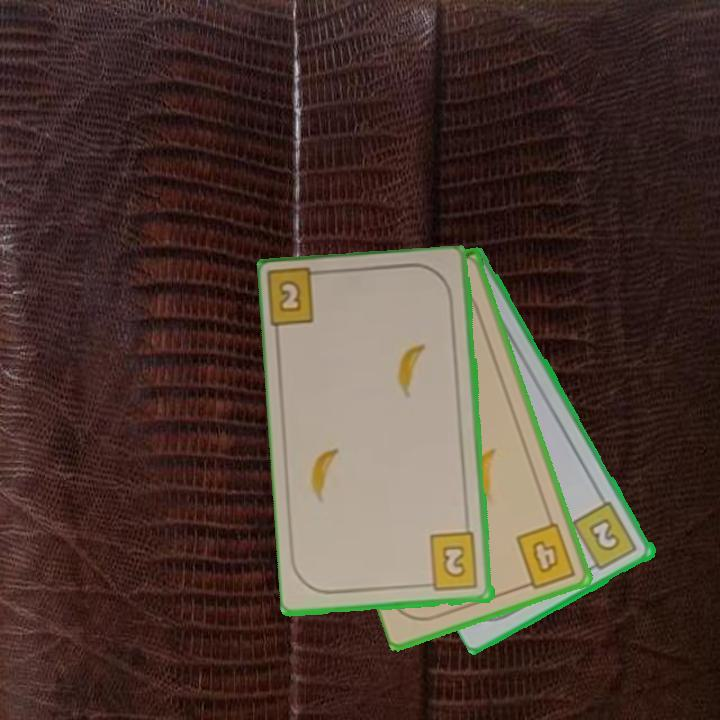2b: (569, 498, 641, 575), (266, 267, 332, 332), (420, 530, 481, 594)
4b: (512, 519, 579, 592)
